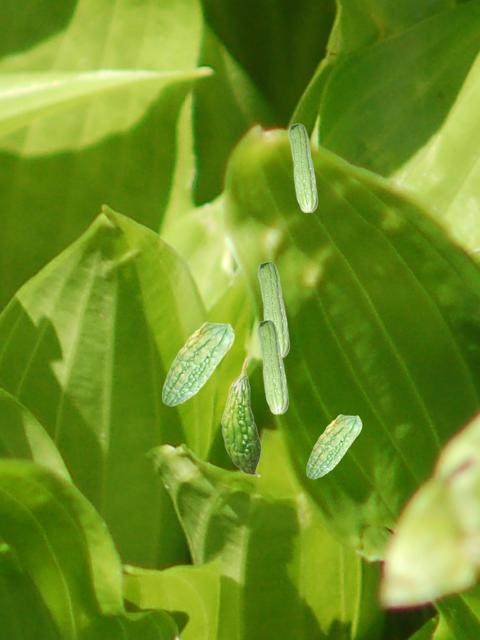ampalaya: (161, 321, 235, 406), (220, 357, 261, 477), (306, 414, 362, 479), (257, 261, 290, 358), (256, 319, 289, 415), (287, 123, 318, 213)
